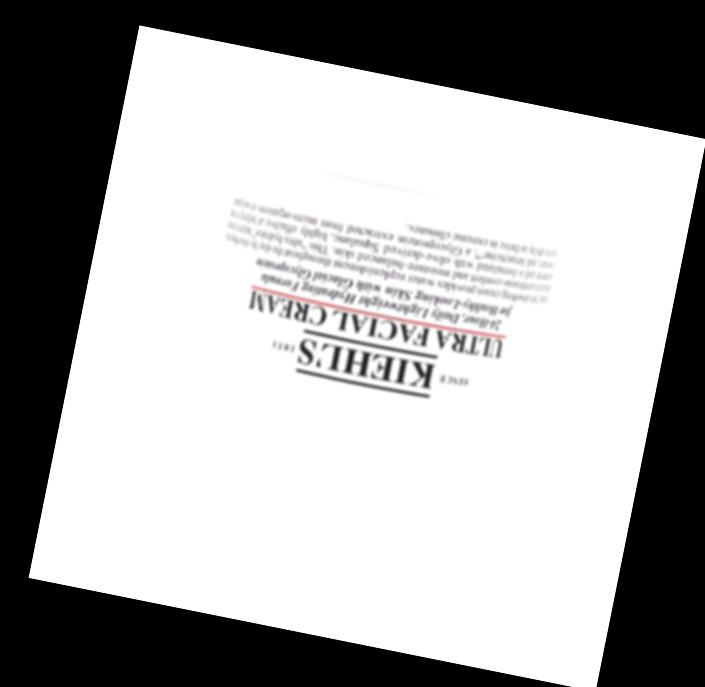cosmetic: (183, 154, 573, 498)
